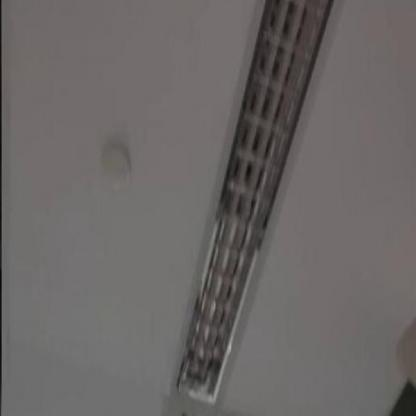light_off: (145, 0, 368, 410)
